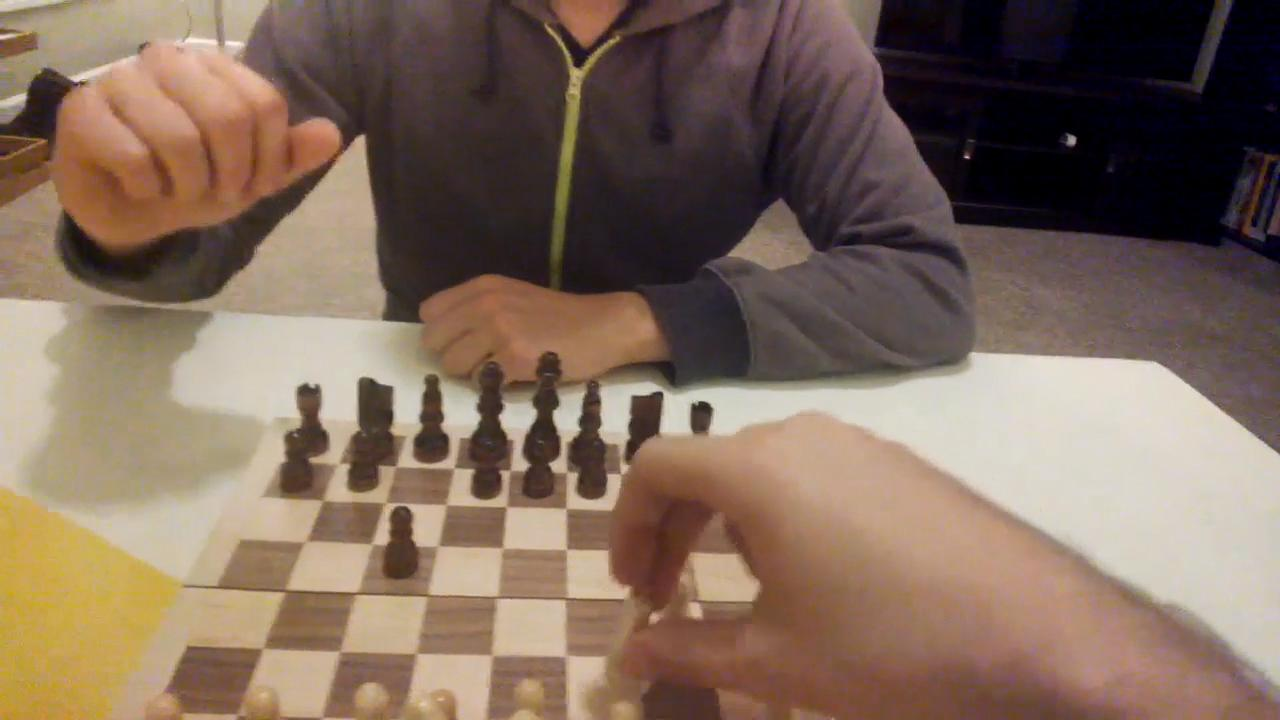hand: (603, 416, 1056, 706), (48, 40, 356, 281), (406, 263, 625, 398)
